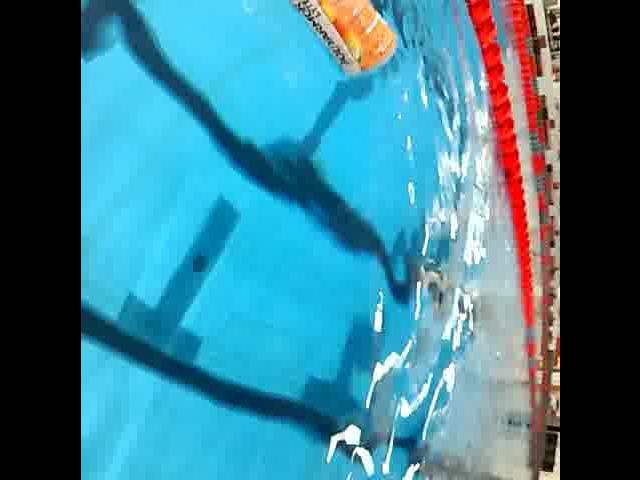Bottle: (241, 0, 399, 80)
